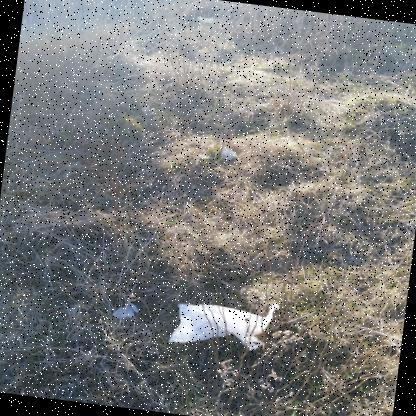Plastic film: (112, 300, 138, 318), (220, 141, 236, 161), (140, 105, 157, 114)
Single-use carrier bag: (168, 302, 279, 350)
Unlabeled litter: (198, 17, 218, 22)
